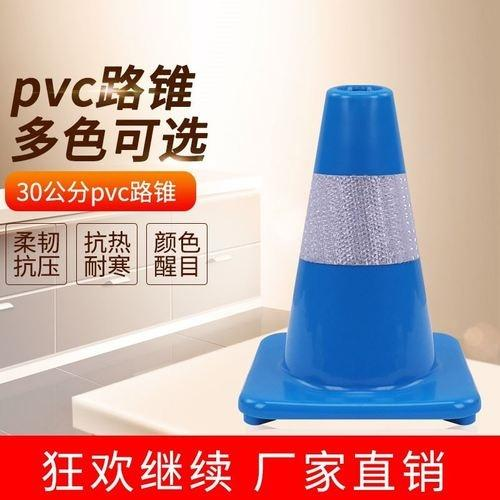cone_barrel: (257, 83, 458, 394)
